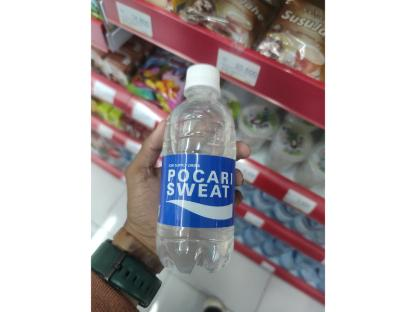Plastic Bottle: (156, 64, 236, 274)
